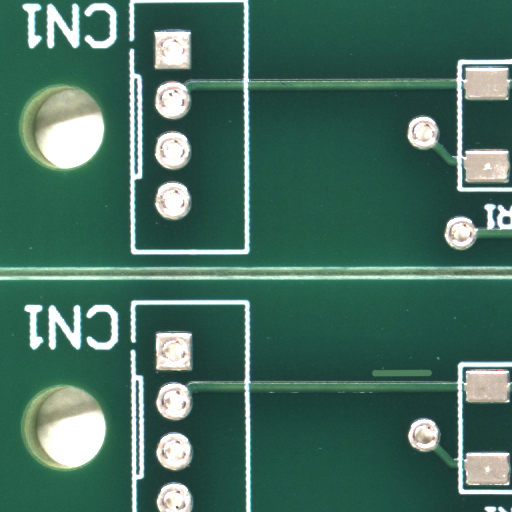Spurious_copper: (402, 372, 463, 383)
